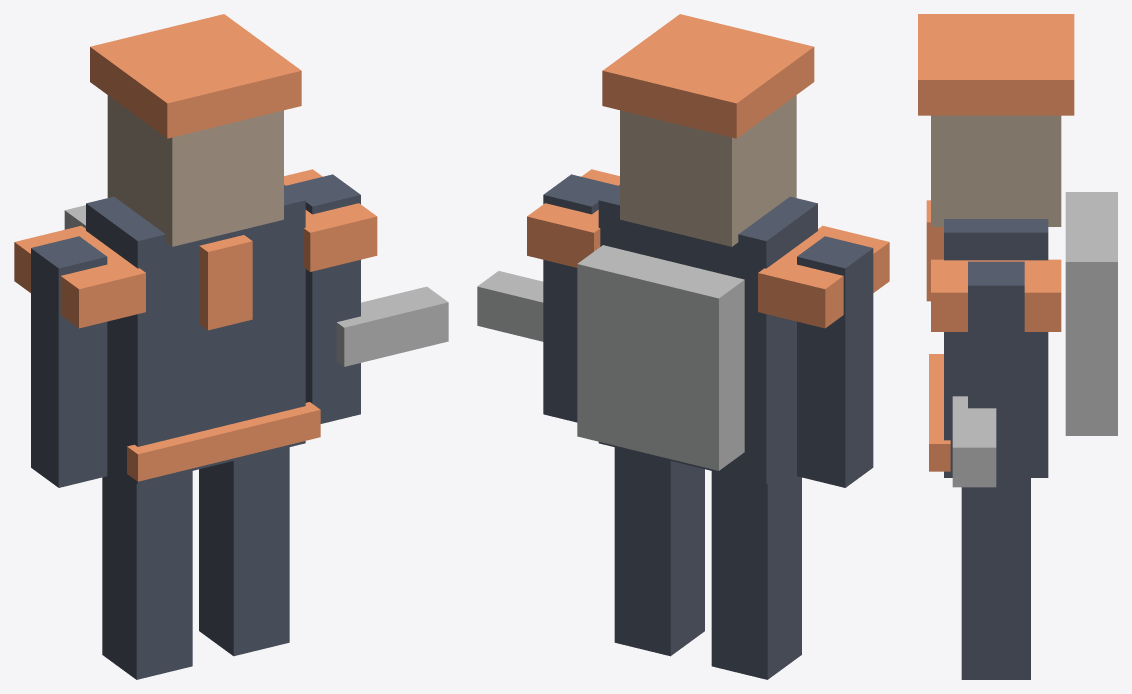
Rendered from 17_calder_holloway_keeper_of_patrol.glb.
The picture shows the model from 3 angles, left to right: view 1: azimuth 30°, elevation 25°; view 2: azimuth 150°, elevation 25°; view 3: azimuth 270°, elevation 25°; orthographic projection.
Parts seen in each view (by area): view 1: Calder Holloway, Keeper of Patrol; view 2: Calder Holloway, Keeper of Patrol; view 3: Calder Holloway, Keeper of Patrol.
Part boxes in pixels (x1,y1,x2,y2): Calder Holloway, Keeper of Patrol: (14,14,448,679); Calder Holloway, Keeper of Patrol: (477,14,889,679); Calder Holloway, Keeper of Patrol: (918,14,1117,679).
Bounding box in the file's own units: 1.06 × 1.56 × 0.4736.
